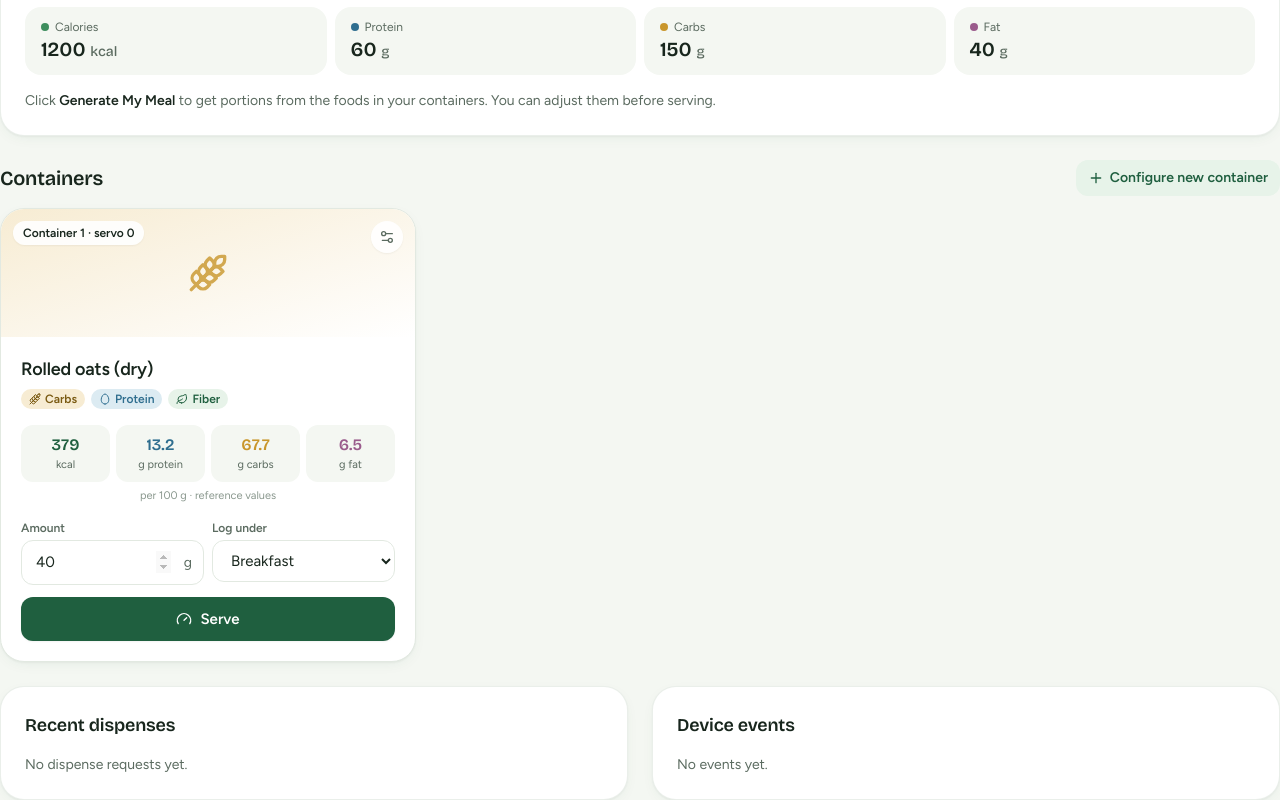
Smart Dispenser page › validates a single serve before sending anything
(page scrolled)
Replace the text in the number field named "Grams of Rolled oats (dry)" with "900" at (112, 563), box [21,540,204,585]
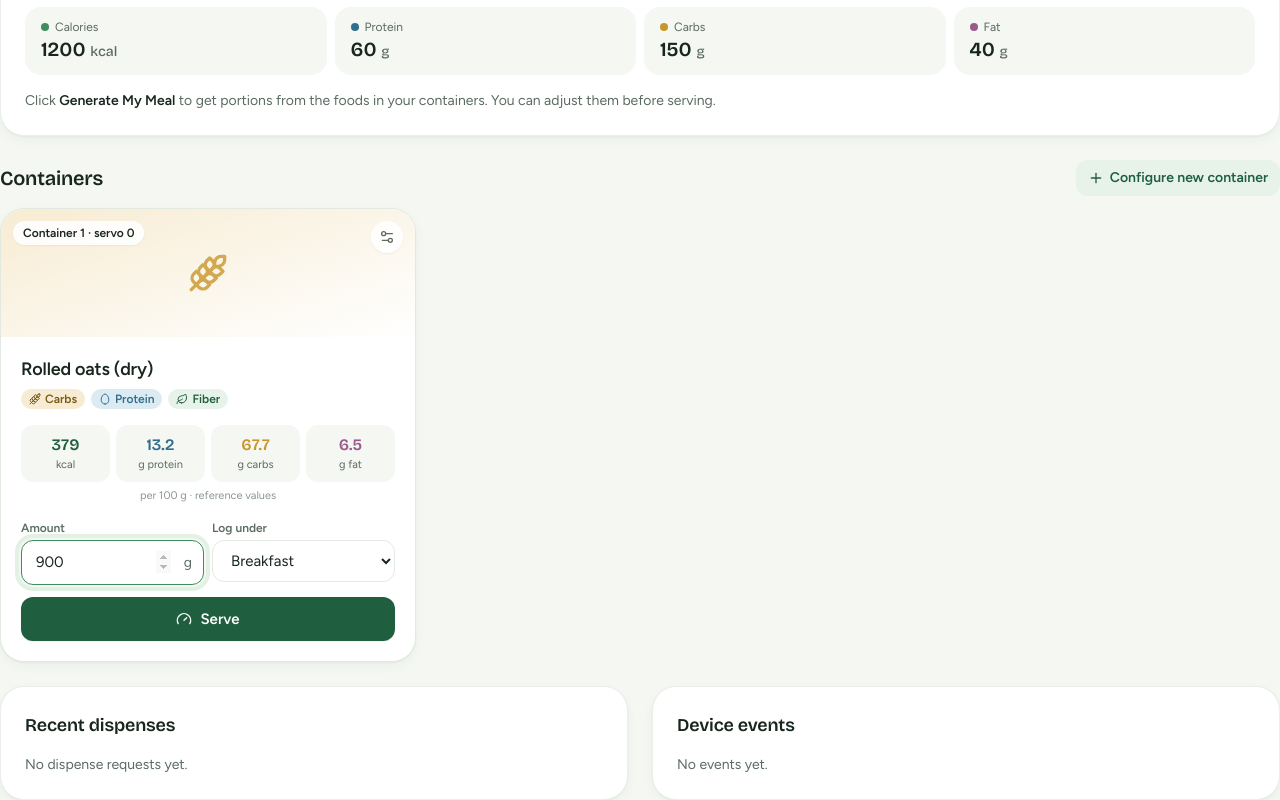
Click the button with aria-label "Serve Rolled oats (dry)" at (208, 619), box [21,597,395,641]
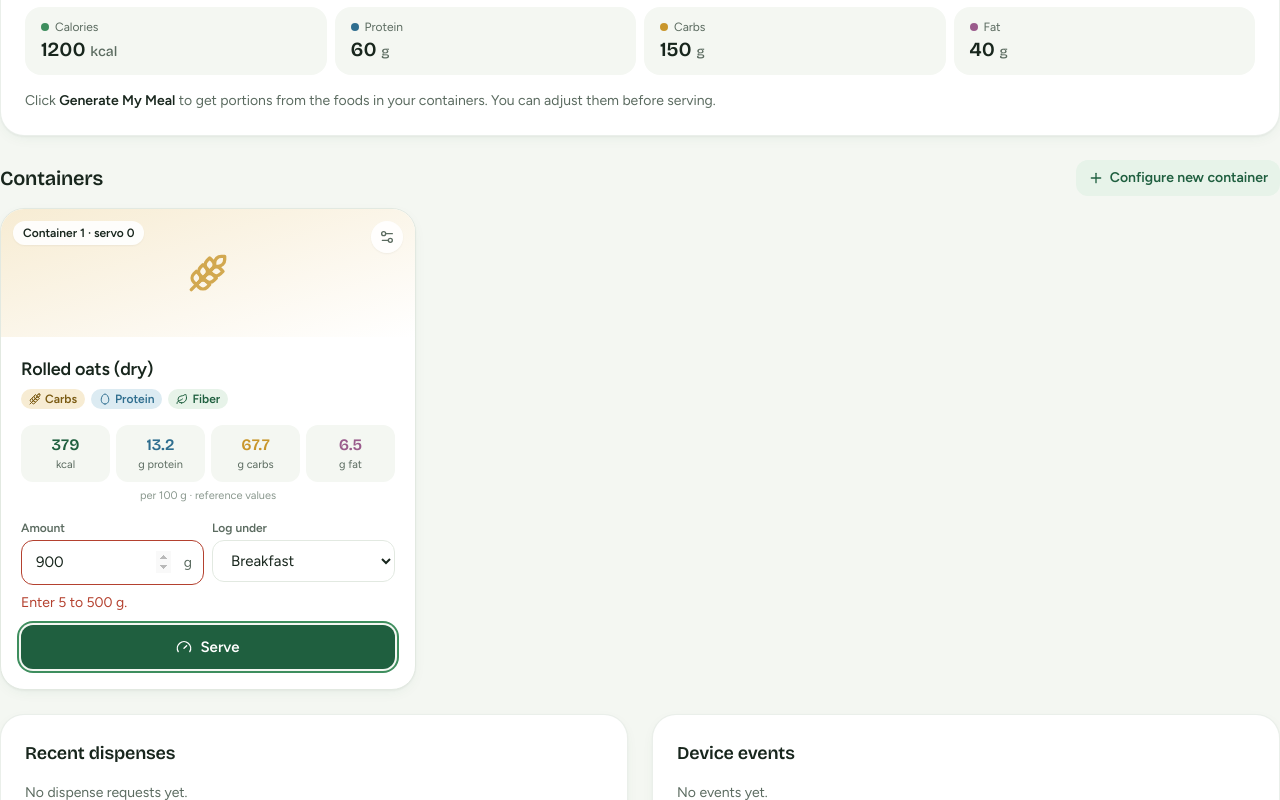
Expected: the text "Enter 5 to 500 g." is shown, [21,594,127,611]
